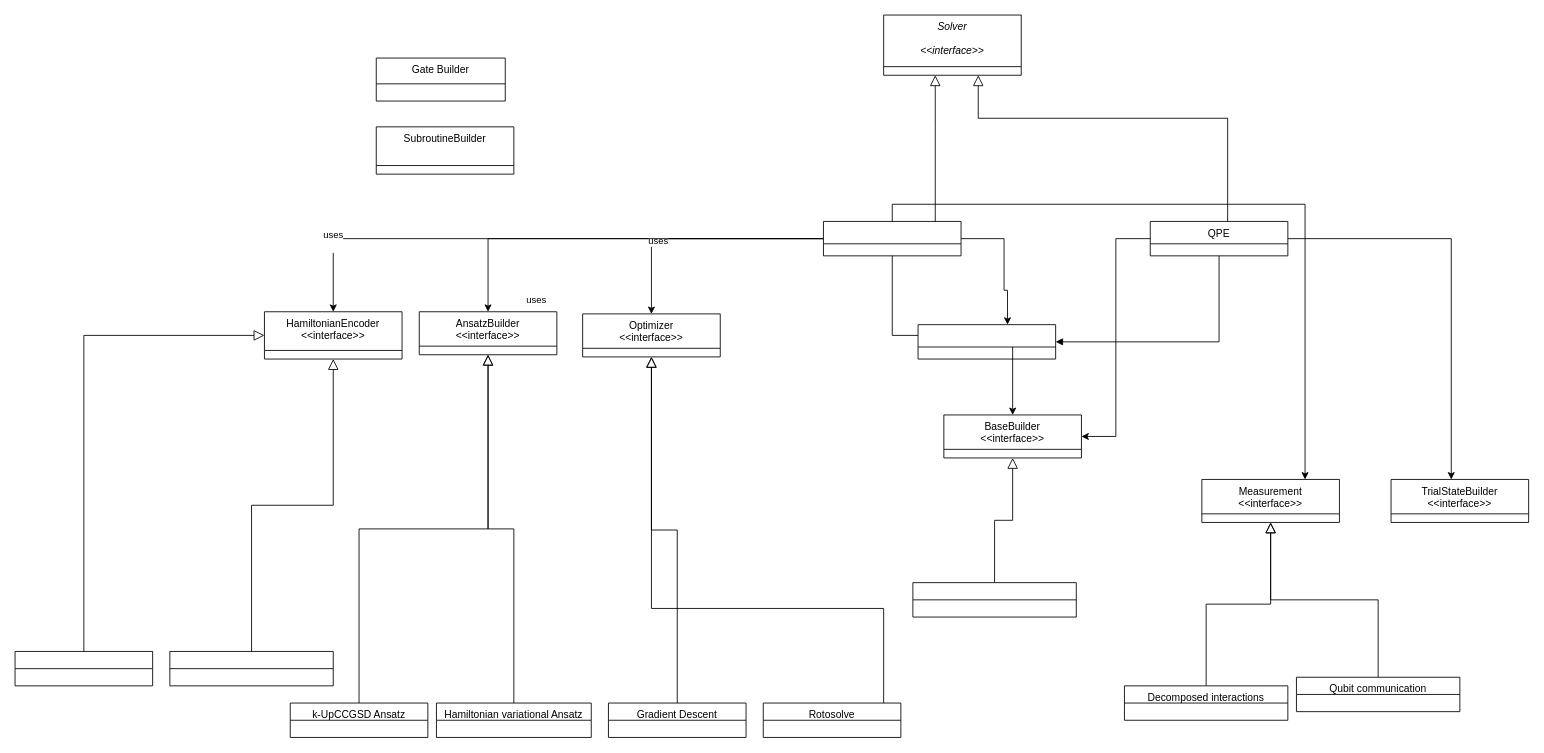
This 1544x753 diagram has some shape labels left out. The centre of each missing label's shape, as x and y in pixels:
CircuitBuilder???: [986,341]
Computational base: [994,599]
Generalized superfast encoding: [251,668]
Ternary tree encoding: [83,668]
VQE: [892,238]
